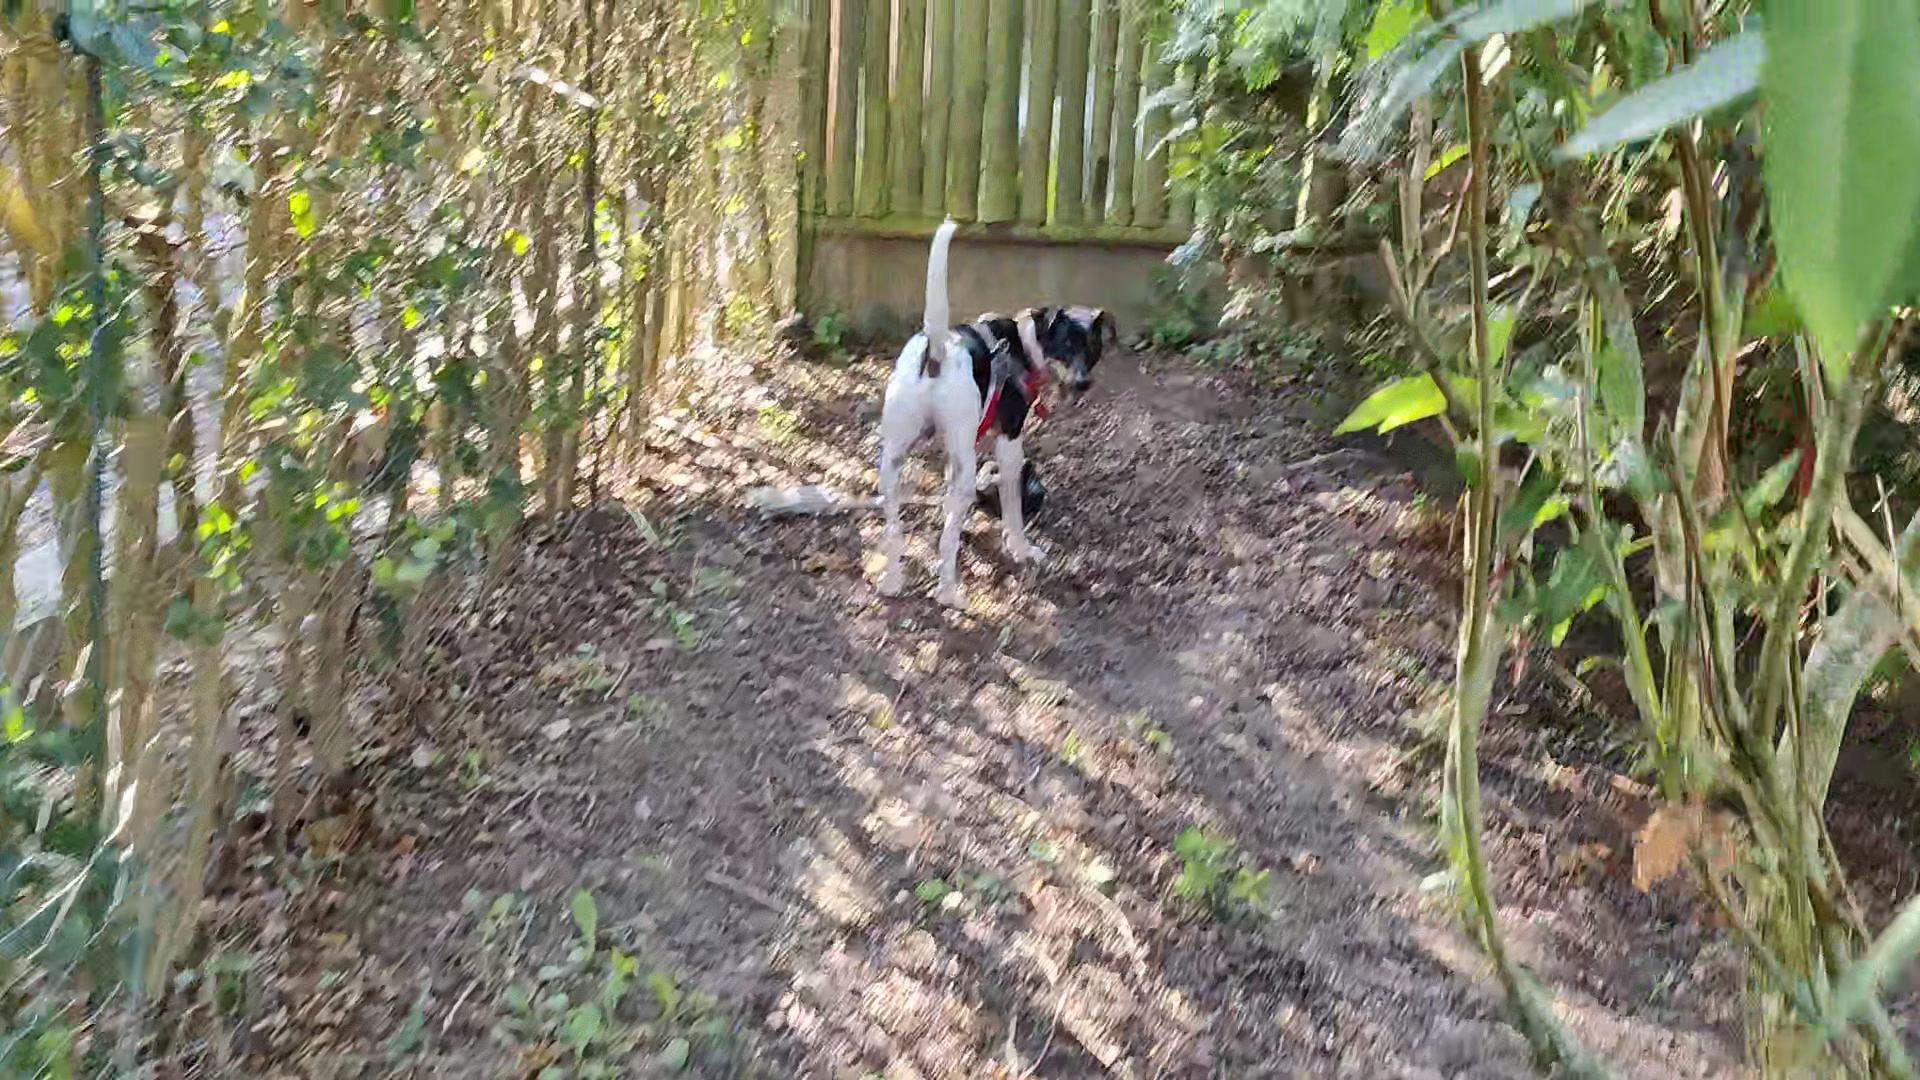Dog: (851, 206, 1127, 613)
